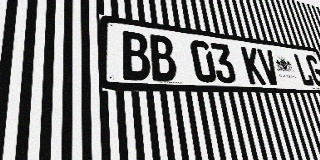0: (189, 39, 217, 83)
3: (210, 42, 237, 84)
B: (120, 30, 152, 81), (148, 34, 178, 82)
G: (305, 55, 320, 87)
K: (240, 46, 266, 85)
L: (293, 53, 315, 86)
V: (257, 48, 281, 85)
